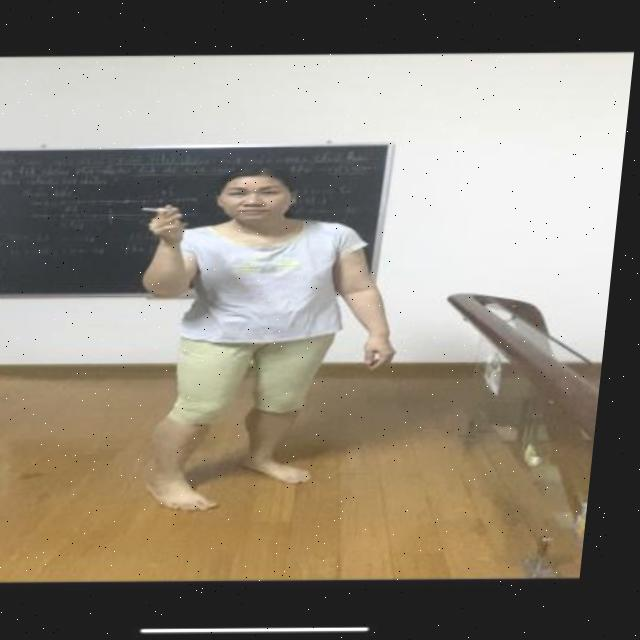cigarette: (143, 206, 176, 214)
